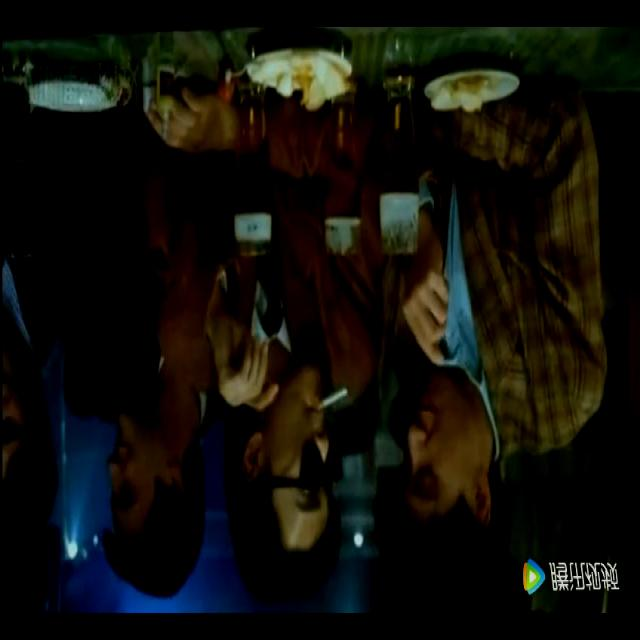cigarette: (322, 383, 347, 408)
